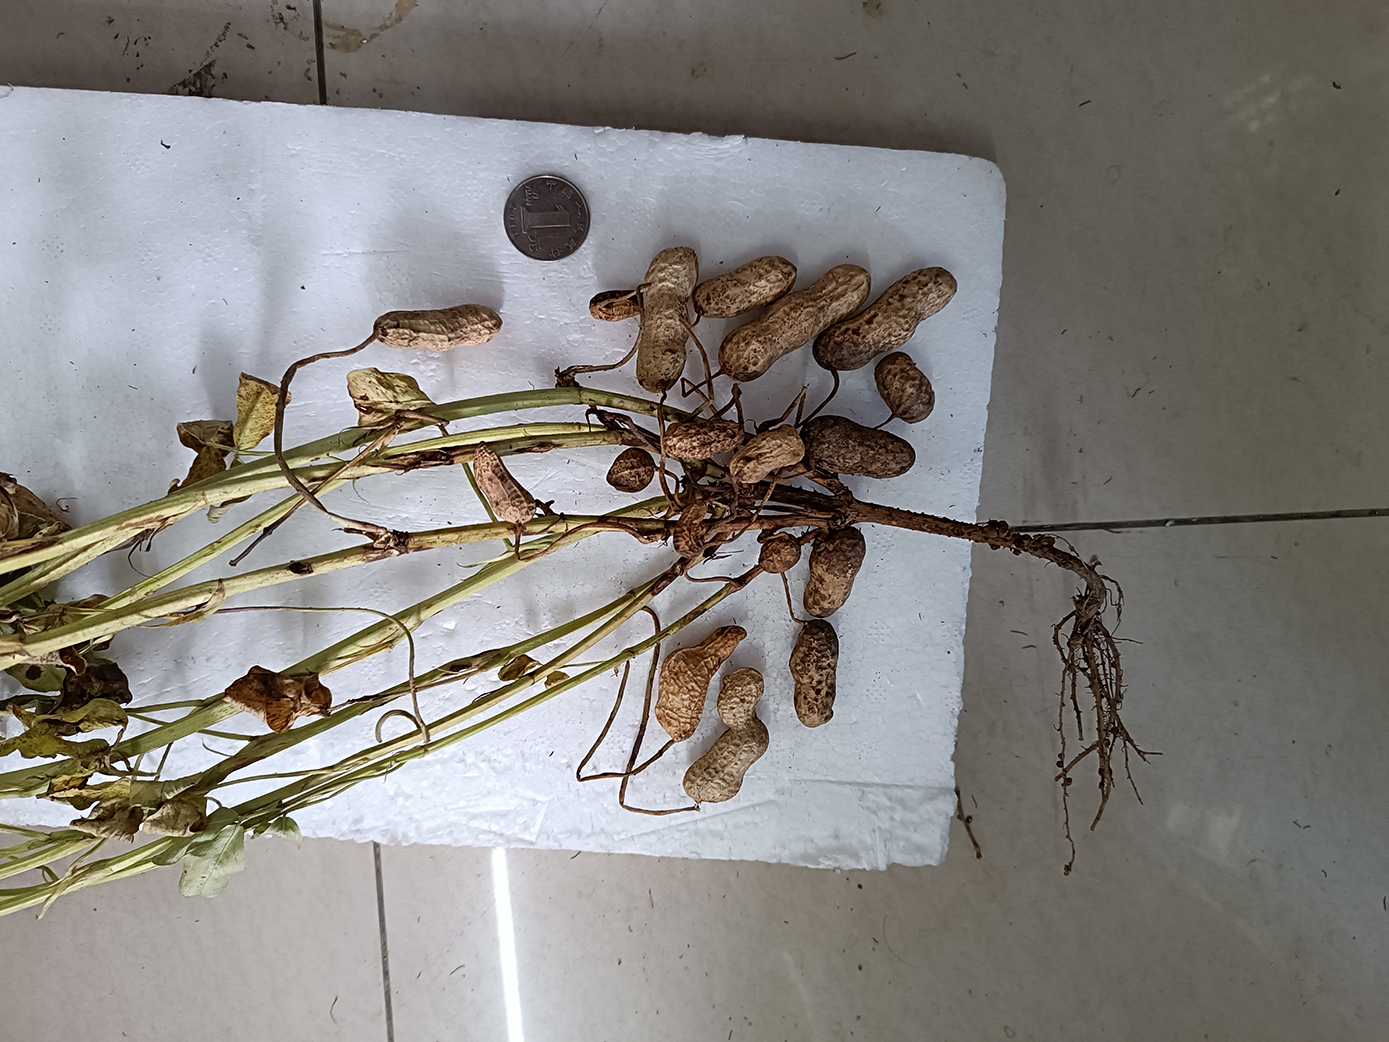h: (719, 263, 870, 382), (812, 266, 959, 373), (682, 668, 769, 804), (655, 626, 749, 742), (637, 248, 695, 391), (694, 256, 798, 320), (805, 525, 867, 618), (471, 441, 537, 528), (375, 305, 502, 350), (789, 621, 840, 728), (728, 427, 805, 486), (664, 421, 746, 462), (606, 449, 653, 494), (760, 533, 802, 574), (588, 291, 641, 323)
l: (799, 415, 918, 478), (873, 354, 934, 426)
